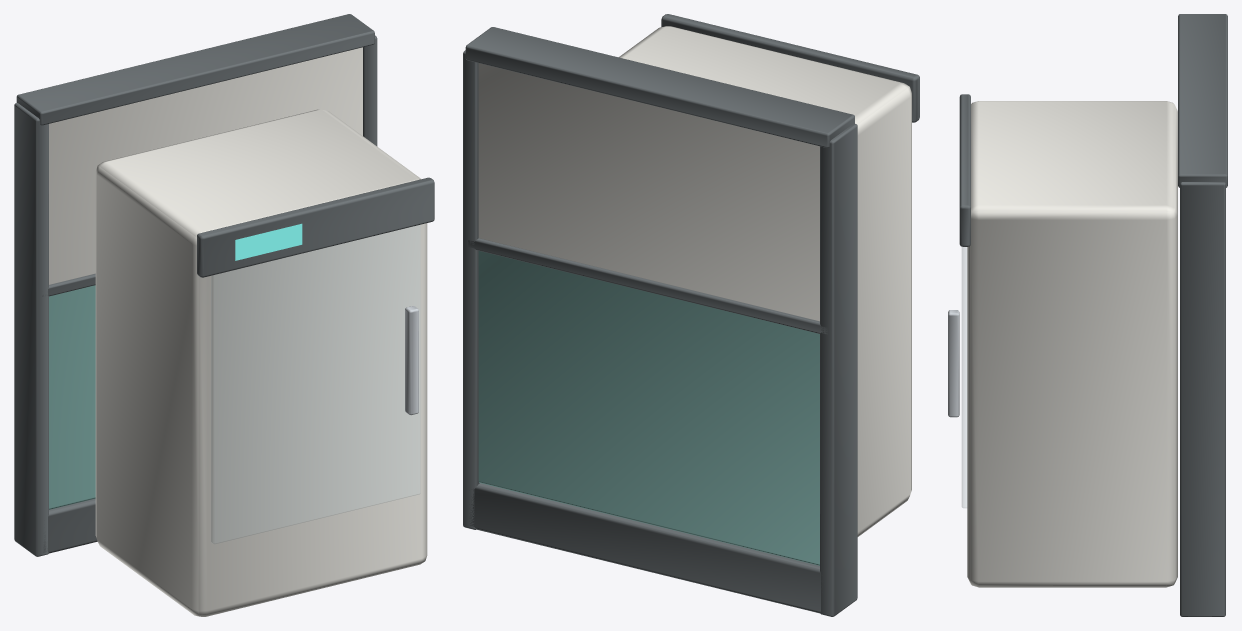
The model's file is sala_nevera.glb.
3 views of the same model, side by side, from view 1: azimuth 30°, elevation 25°; view 2: azimuth 150°, elevation 25°; view 3: azimuth 270°, elevation 25° (orthographic). The views are drawn at different scales.
Parts seen in each view (by area): view 1: nevera, nevera_puerta, pared_alta, pared_perfil-0.49, pared_remate, pared_panel, nevera_panel, pared_zocalo, nevera_tirador, pantalla, pared_perfil0.49, pared_canto; view 2: pared_panel, pared_alta, nevera, pared_perfil-0.49, pared_zocalo, pared_remate, pared_perfil0.49, pared_canto, nevera_panel; view 3: nevera, pared_perfil0.49, pared_remate, nevera_panel, nevera_puerta, nevera_tirador.
Boxes of the visible parts, x1,y1,x2,y2 form: nevera: (95,109,427,616); nevera_puerta: (211,225,420,543); pared_alta: (49,47,362,284); pared_perfil-0.49: (14,103,48,556); pared_remate: (16,14,374,125); pared_panel: (49,285,95,509); nevera_panel: (197,177,434,277); pared_zocalo: (43,498,97,553); nevera_tirador: (405,306,418,415); pantalla: (235,223,302,260); pared_perfil0.49: (363,35,377,146); pared_canto: (42,273,95,296); pared_panel: (478,251,819,565); pared_alta: (478,63,819,321); nevera: (619,26,911,536); pared_perfil-0.49: (820,123,857,616); pared_zocalo: (469,483,822,613); pared_remate: (465,27,854,147); pared_perfil0.49: (463,50,479,529); pared_canto: (468,238,827,334); nevera_panel: (661,14,919,122); nevera: (967,101,1177,587); pared_perfil0.49: (1180,182,1225,616); pared_remate: (1178,14,1227,187); nevera_panel: (959,94,970,246); nevera_puerta: (962,247,966,507); nevera_tirador: (948,310,959,417).
Bounding box in the file's own units: 1.02 × 1.27 × 0.73.
